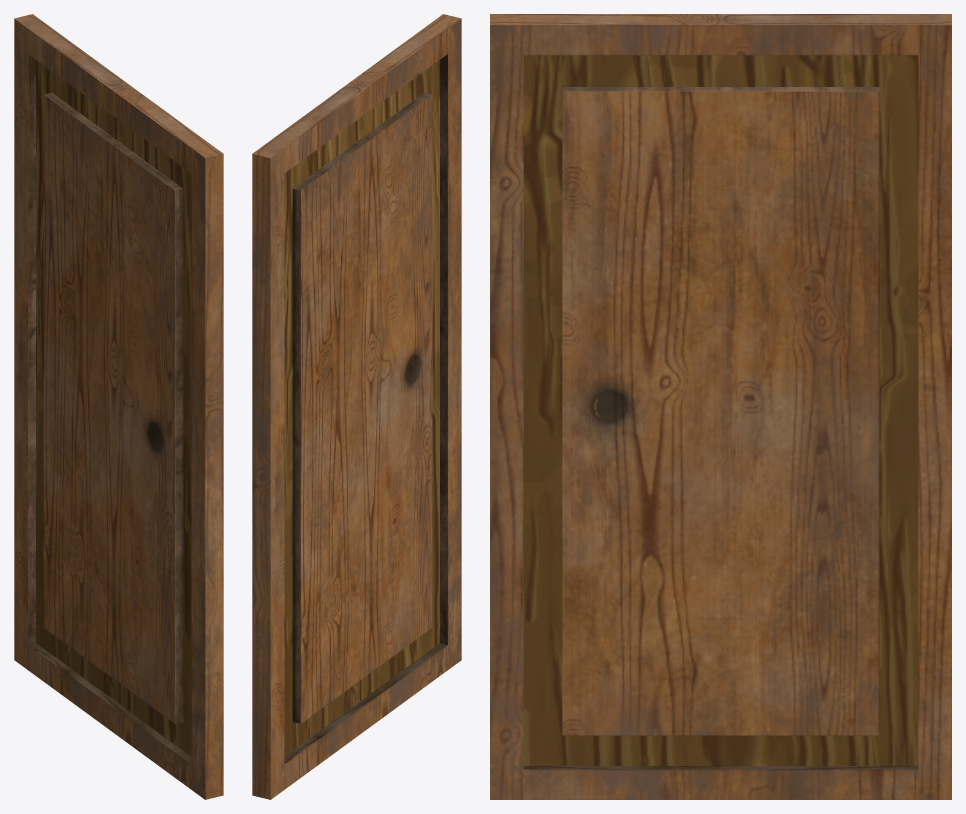
The model's file is Porte_rue.fbx.
The picture shows the model from 3 angles, left to right: view 1: azimuth 30°, elevation 25°; view 2: azimuth 150°, elevation 25°; view 3: azimuth 270°, elevation 25°; orthographic projection. The views are drawn at different scales.
Visible parts, largest first — view 1: Porte rue; view 2: Porte rue; view 3: Porte rue.
Part boxes in pixels (<box>): Porte rue: <box>14,14,223,799</box>; Porte rue: <box>252,14,461,799</box>; Porte rue: <box>490,14,951,799</box>.
Bounding box in the file's own units: 10.72 × 314 × 169.
